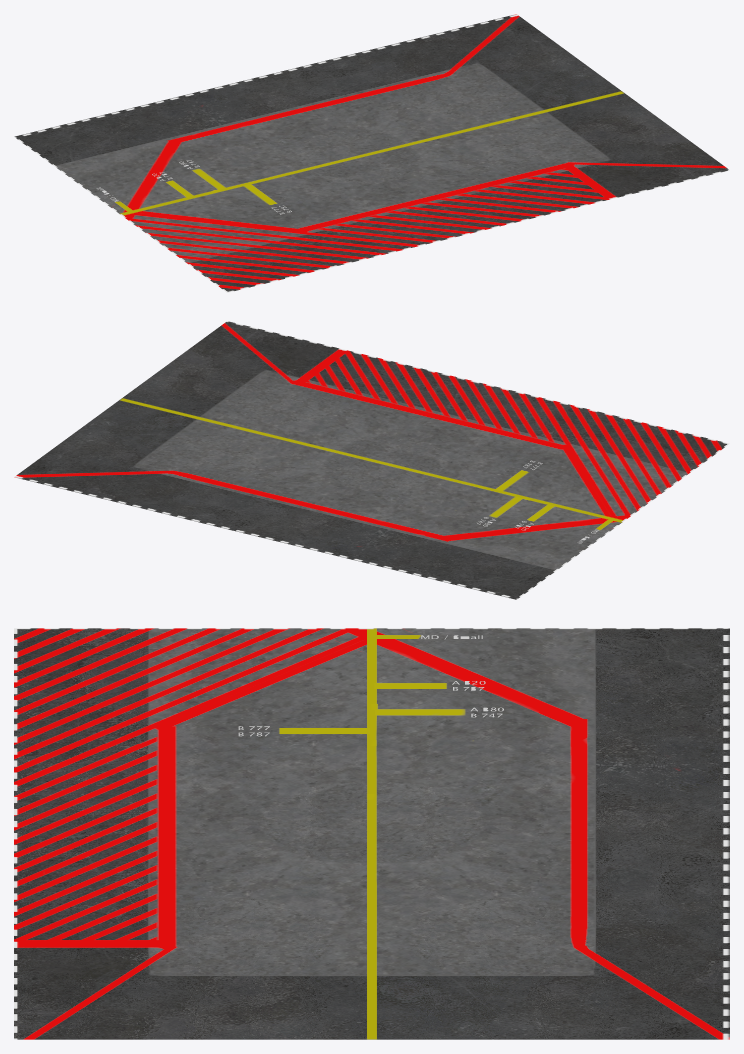
File: Rampa de avion.fbx
The picture shows the model from 3 angles, top to bottom: view 1: azimuth 30°, elevation 25°; view 2: azimuth 150°, elevation 25°; view 3: azimuth 270°, elevation 25°; orthographic projection. The views are drawn at different scales.
Parts seen in each view (by area): view 1: pPlane89; view 2: pPlane89; view 3: pPlane89.
Boxes of the visible parts, bbox=[...] form: pPlane89: bbox=[14, 14, 729, 292]; pPlane89: bbox=[14, 321, 729, 599]; pPlane89: bbox=[14, 628, 729, 1039].
Size of the model in its own units: 9221 by 0.4256 by 6780.
